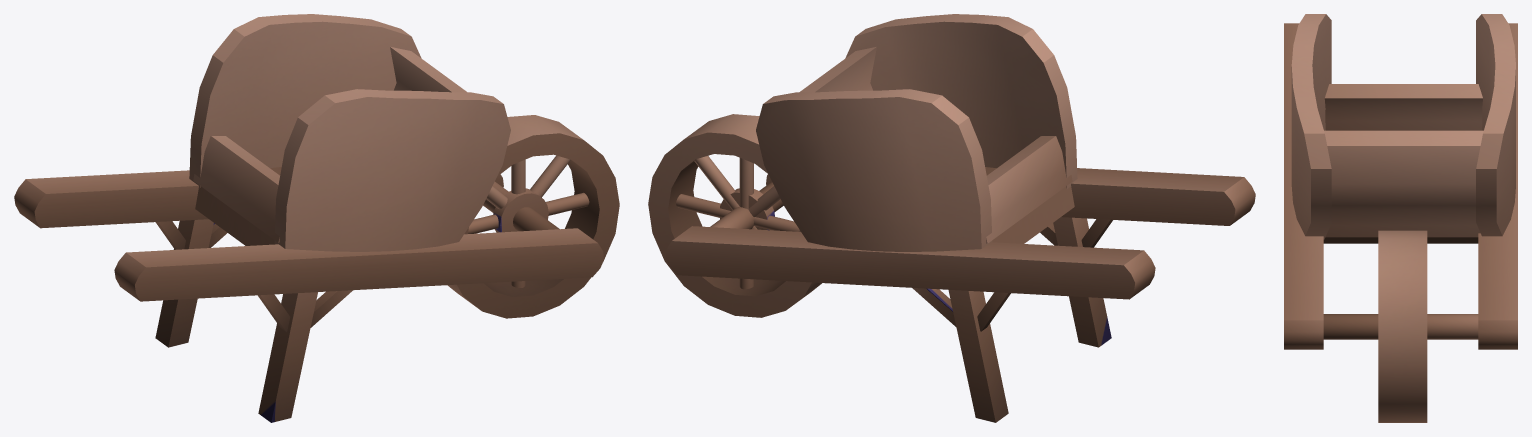
Rendered from Carretilla.fbx.
3 renders of one model, left to right at view 1: azimuth 30°, elevation 25°; view 2: azimuth 150°, elevation 25°; view 3: azimuth 270°, elevation 25°, orthographic. The views are drawn at different scales.
Visible parts, largest first — view 1: Caja_lados, Barra, Rueda, Barra1, Caja_atras, Pata, Pata1, Caja_frente, Caja_piso, Centro_rueda, Palo_rueda3, Rueda_eje (+4 smaller); view 2: Caja_lados, Barra1, Rueda, Barra, Caja_atras, Pata1, Pata, Caja_frente, Caja_piso, Palo_rueda3, Palo_rueda2, Rueda_eje (+3 smaller); view 3: Caja_lados, Caja_frente, Rueda, Caja_atras, Barra, Barra1, Rueda_eje, Caja_piso.
Part boxes in pixels (box(x1,y1,x2,y2)): Caja_lados: box(189, 14, 510, 251); Barra: box(114, 228, 603, 301); Rueda: box(447, 115, 619, 318); Barra1: box(14, 170, 503, 228); Caja_atras: box(193, 136, 279, 242); Pata: box(258, 292, 317, 422); Pata1: box(155, 219, 213, 347); Caja_frente: box(390, 47, 466, 92); Caja_piso: box(195, 167, 281, 245); Centro_rueda: box(493, 188, 548, 232); Palo_rueda3: box(468, 192, 589, 233); Rueda_eje: box(483, 181, 559, 231); Caja_lados: box(756, 14, 1077, 251); Barra1: box(665, 226, 1155, 299); Rueda: box(648, 114, 821, 317); Barra: box(766, 168, 1255, 225); Caja_atras: box(986, 136, 1072, 243); Pata1: box(948, 289, 1008, 422); Pata: box(1053, 217, 1111, 347); Caja_frente: box(799, 47, 876, 92); Caja_piso: box(985, 167, 1074, 243); Palo_rueda3: box(676, 194, 799, 231); Palo_rueda2: box(694, 156, 757, 229); Rueda_eje: box(710, 182, 783, 229); Caja_lados: box(1291, 14, 1515, 239); Caja_frente: box(1324, 130, 1483, 237); Rueda: box(1378, 230, 1427, 422); Caja_atras: box(1324, 84, 1482, 130); Barra: box(1284, 23, 1323, 349); Barra1: box(1478, 23, 1517, 349); Rueda_eje: box(1323, 314, 1478, 339); Caja_piso: box(1323, 237, 1478, 243).
Bounding box in the file's own units: 3.82 × 2.06 × 1.5.
